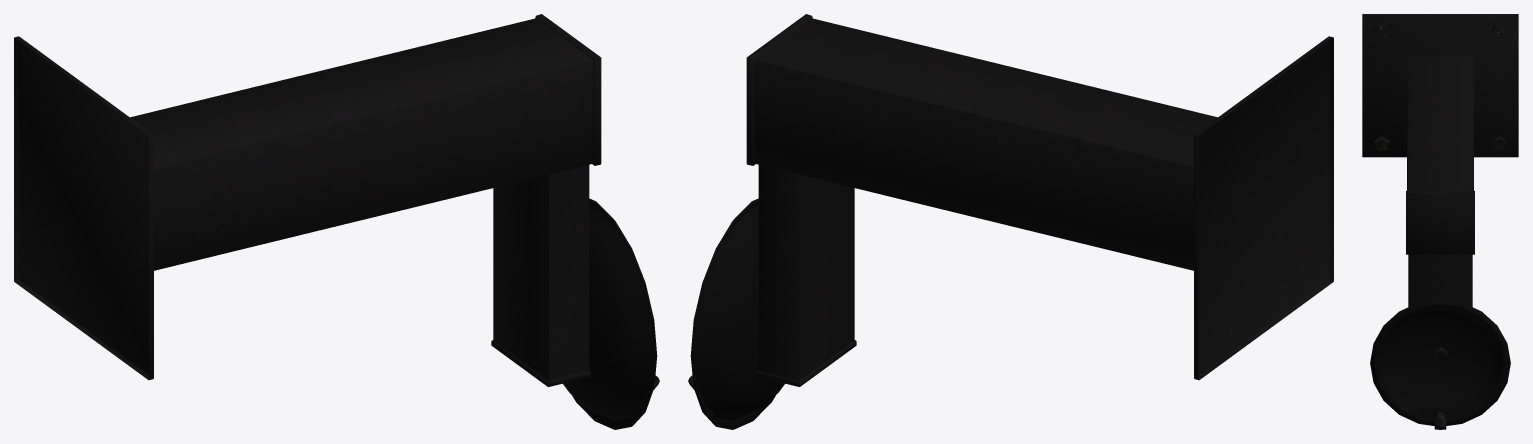
File: cP_DrinkingFountain01.dae
3 renders of one model, left to right at view 1: azimuth 30°, elevation 25°; view 2: azimuth 150°, elevation 25°; view 3: azimuth 270°, elevation 25°, orthographic. The views are drawn at different scales.
Parts seen in each view (by area): view 1: cP_DrinkingFountain01.001; view 2: cP_DrinkingFountain01.001; view 3: cP_DrinkingFountain01.001.
Part boxes in pixels (left/top/right/bottom): cP_DrinkingFountain01.001: left=14, top=14, right=659, bottom=429; cP_DrinkingFountain01.001: left=688, top=14, right=1333, bottom=429; cP_DrinkingFountain01.001: left=1362, top=14, right=1518, bottom=429.
Bounding box in the file's own units: 1.35 × 0.5491 × 1.03.
